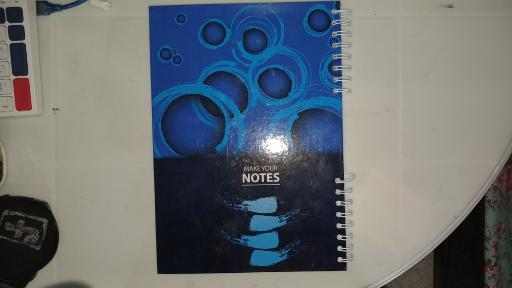notebook: (150, 1, 351, 274)
